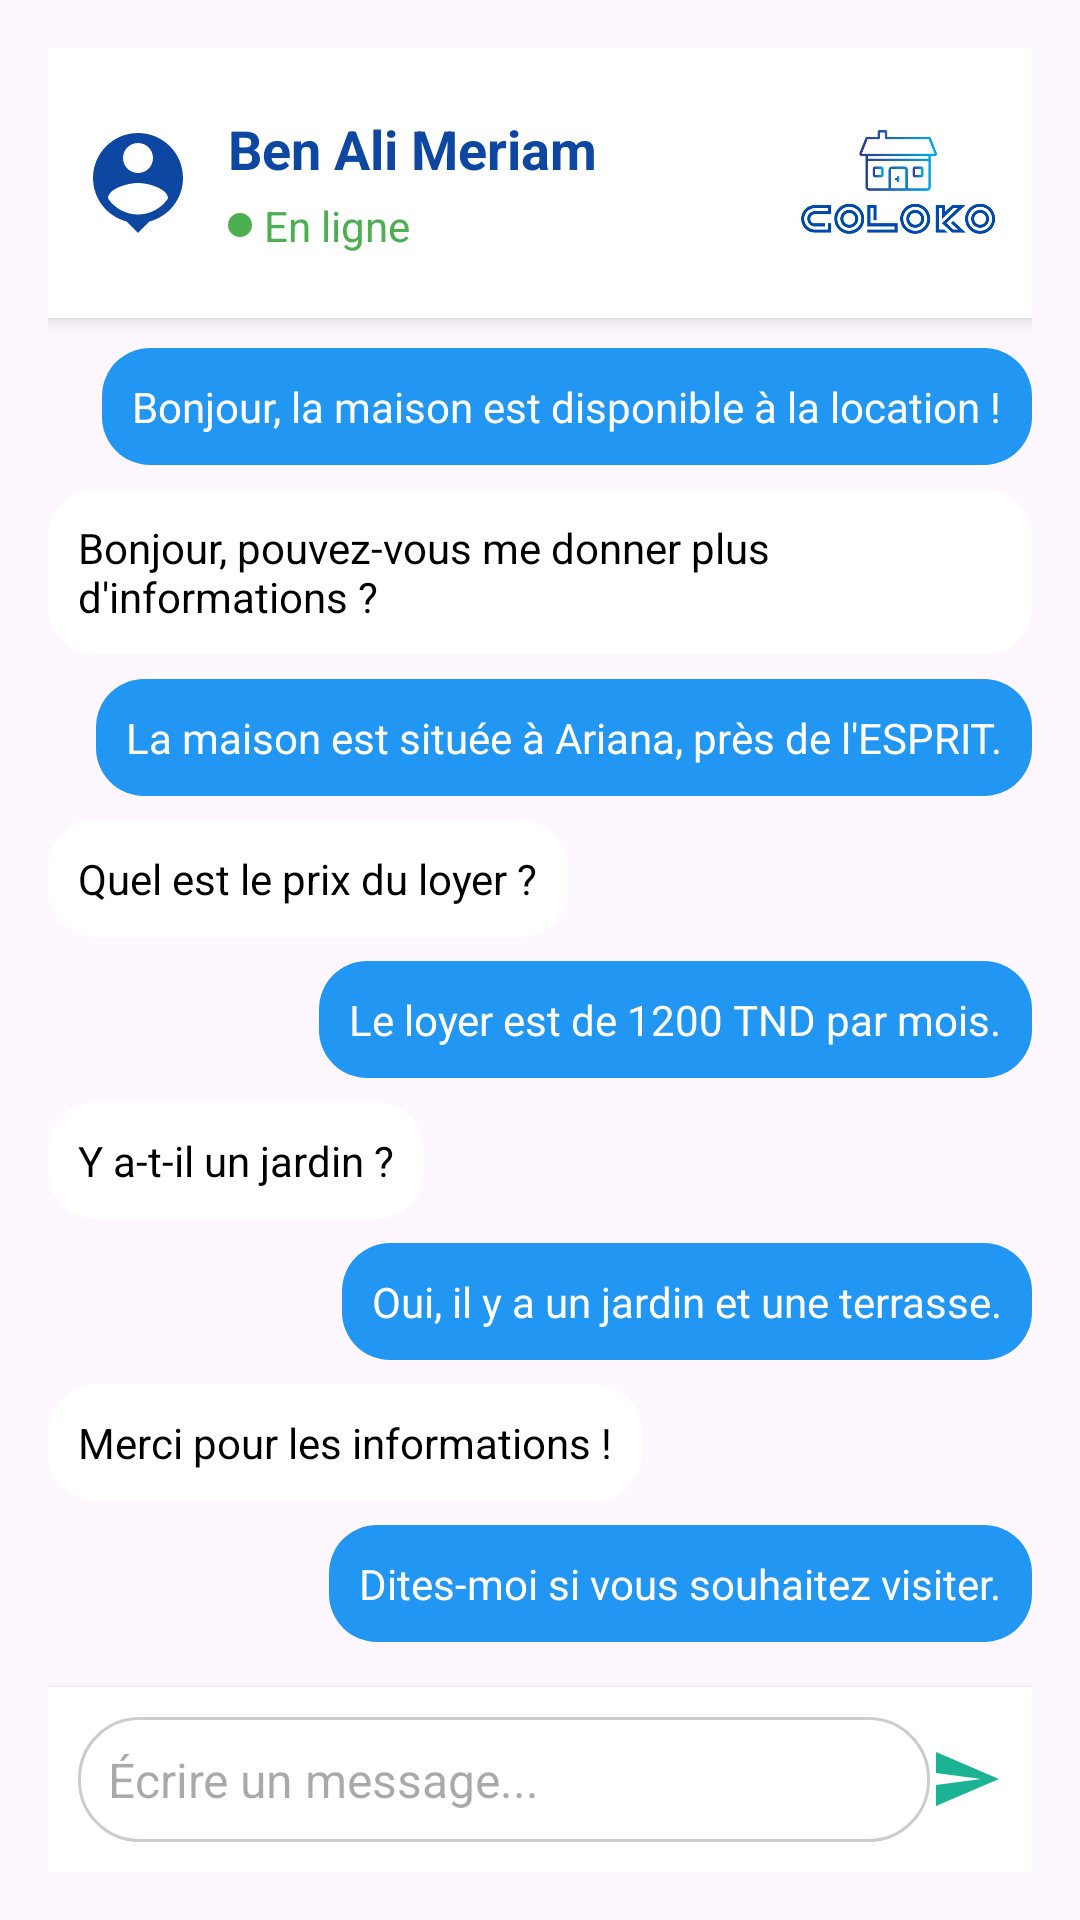

Screen size 1080px×1920px. Icon name, then its box in pixels as (x1, y1, x2, y2):
Envoyer le message: (936, 1752, 999, 1806)
